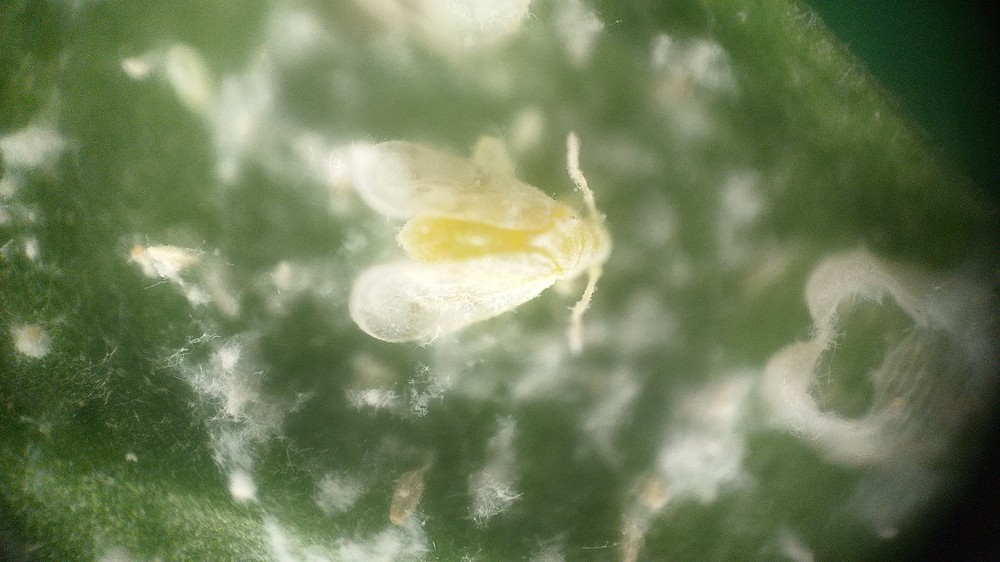Mosca Blanca: (310, 116, 637, 368)
